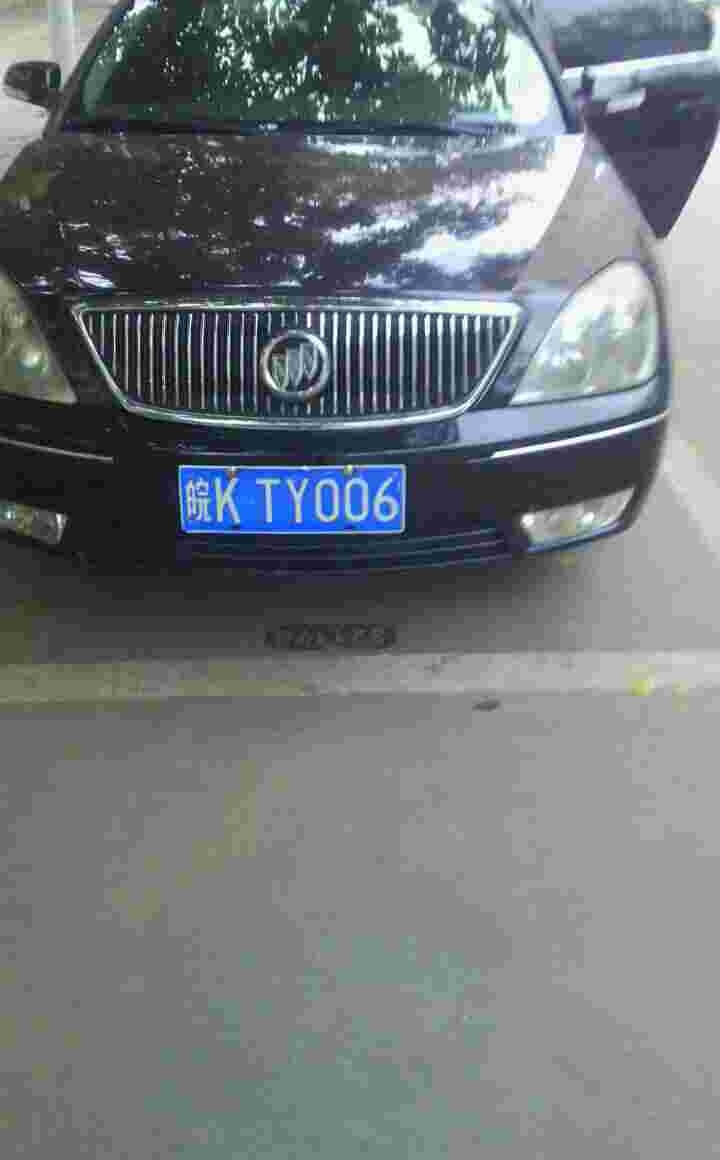license_plate: (177, 469, 413, 534)
